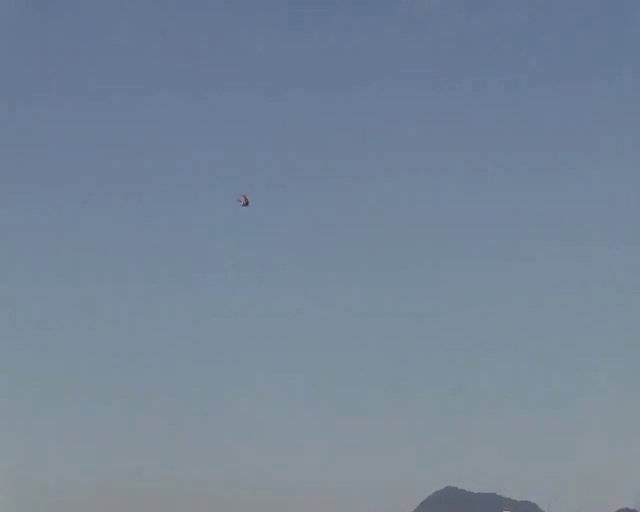HELICOPTER: (237, 194, 250, 206)
